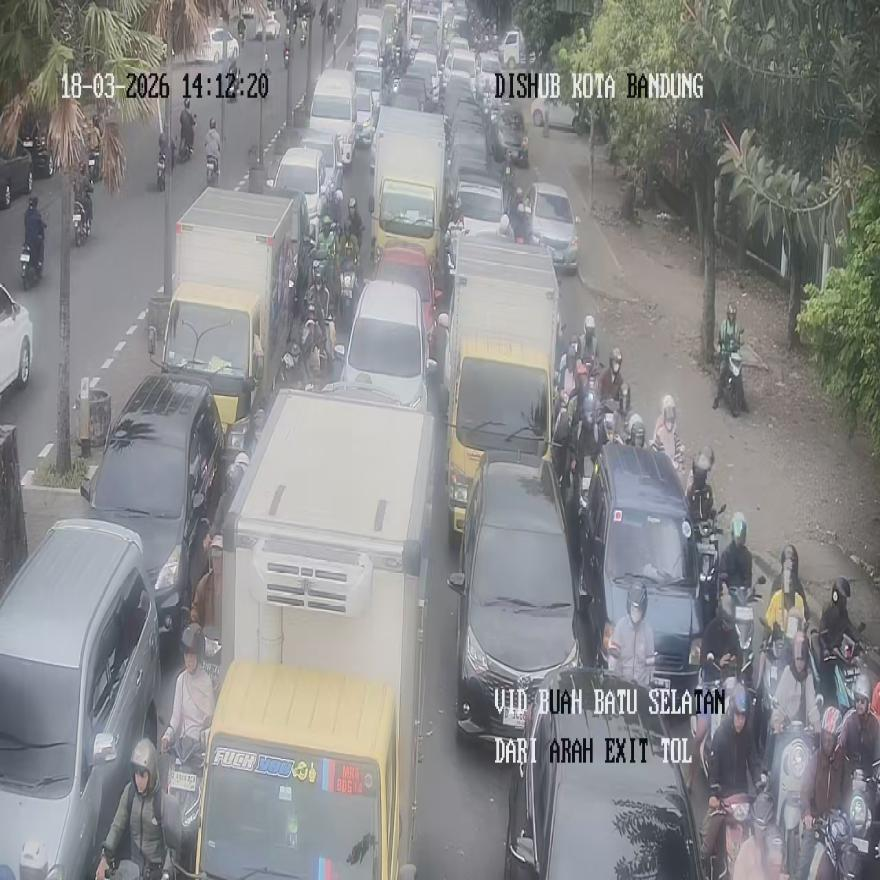Mobil: (0, 520, 159, 876), (503, 669, 702, 878), (81, 375, 224, 650), (448, 452, 584, 737), (579, 442, 704, 715), (338, 278, 438, 410)
Motor: (160, 634, 222, 872), (767, 718, 817, 878), (159, 728, 205, 879), (706, 788, 776, 880), (688, 652, 734, 790), (812, 622, 866, 716), (843, 759, 880, 879), (724, 577, 764, 687), (692, 504, 726, 628), (715, 330, 745, 417), (20, 232, 43, 288), (339, 257, 357, 325), (72, 187, 92, 246), (179, 111, 195, 163), (157, 134, 169, 190), (206, 150, 220, 187), (298, 19, 308, 46), (284, 41, 290, 69)
Truk menengah: (196, 395, 434, 879)
Truk ringan: (147, 188, 299, 446), (442, 233, 562, 544)
